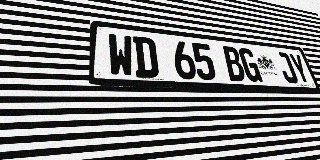5: (191, 42, 217, 80)
6: (171, 40, 198, 80)
B: (221, 46, 247, 82)
D: (132, 36, 160, 78)
G: (237, 48, 263, 82)
J: (275, 52, 299, 84)
W: (108, 33, 135, 77)
Y: (288, 53, 312, 84)
